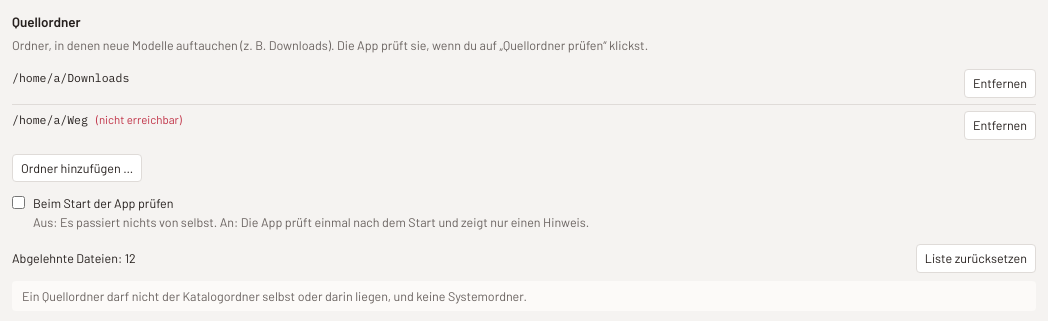
SourceFoldersSettings › removes the chosen folder by id and keeps focus on a control
Click the button with aria-label "Quellordner /home/a/Downloads entfernen" at (1000, 83), box [964, 69, 1036, 98]
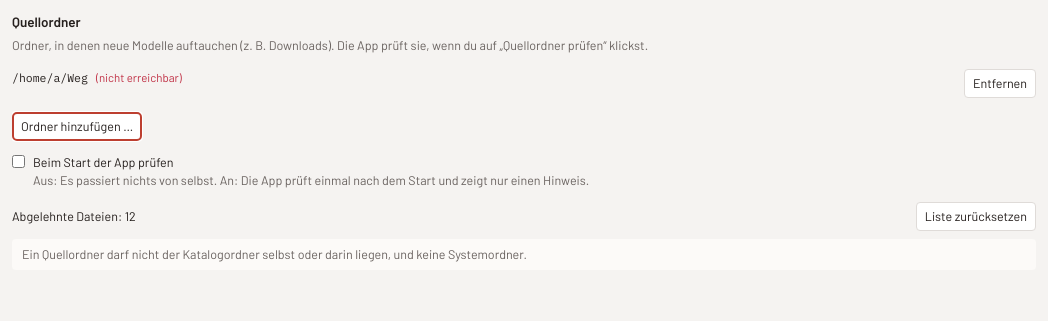
expect the text "/home/a/Downloads" is gone: met
